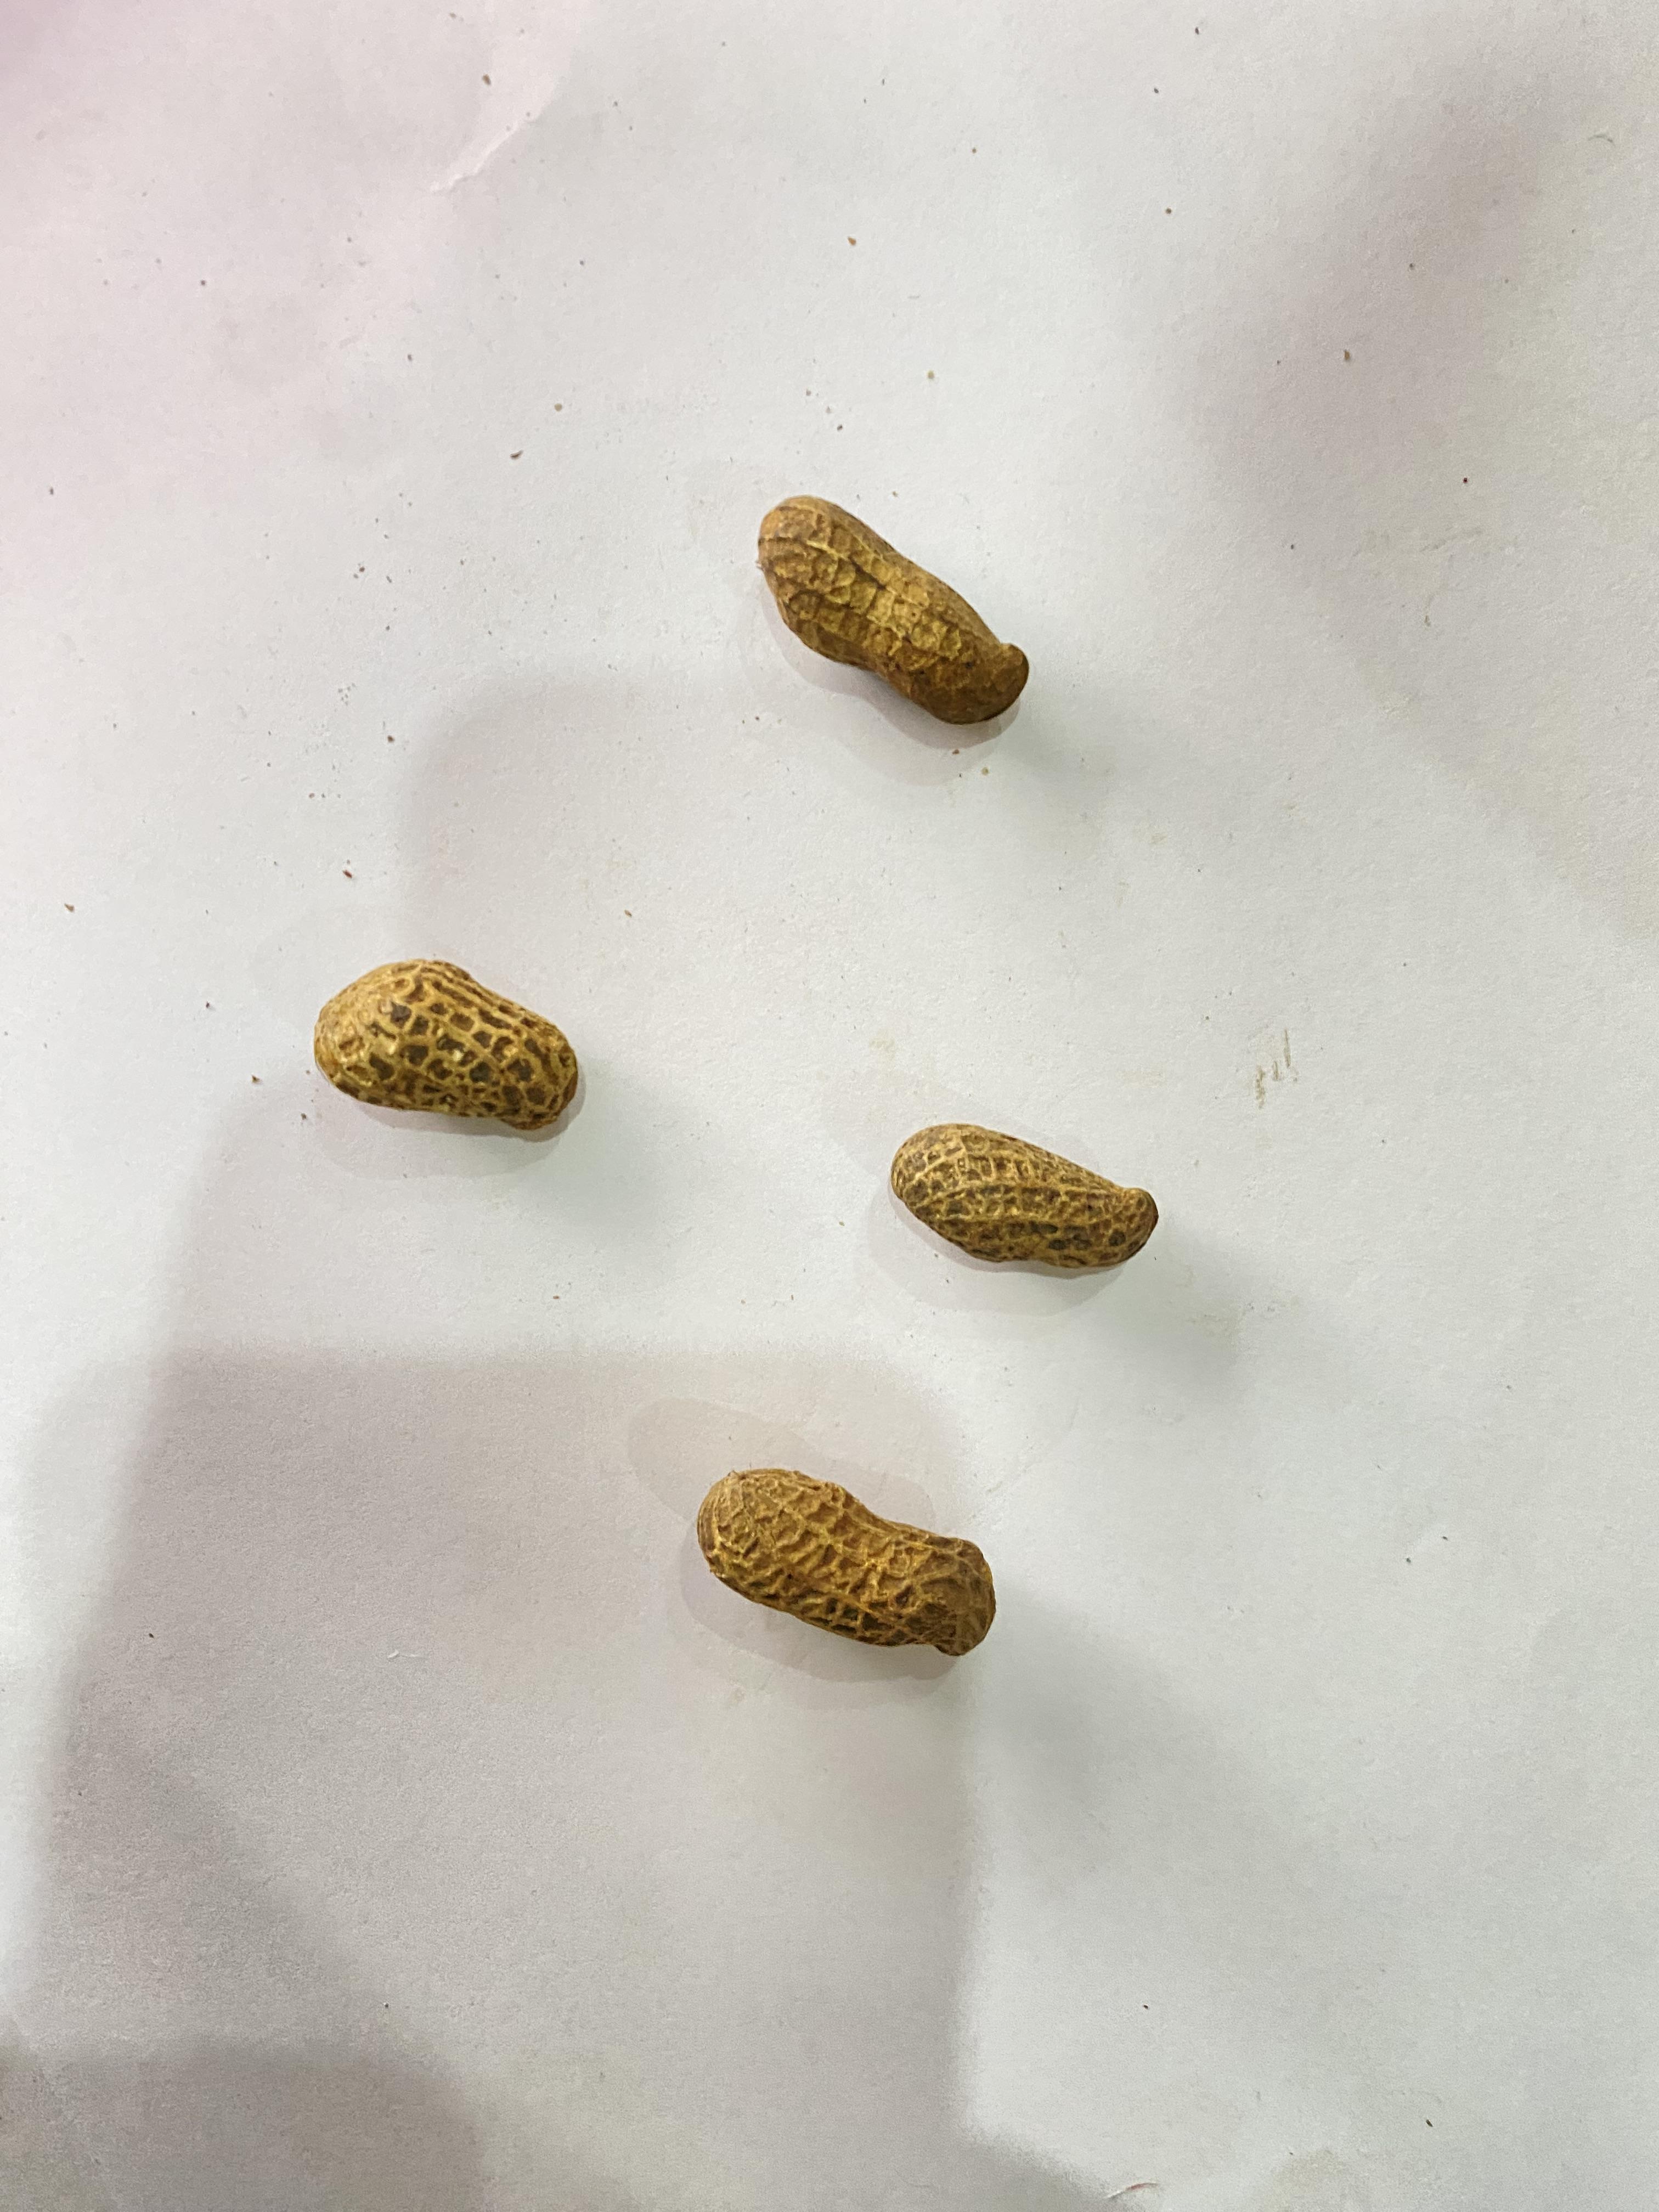kacang1: (782, 1115, 1255, 1289), (289, 944, 655, 1160)
kacang2: (687, 413, 1108, 766), (626, 1442, 1037, 1686)
